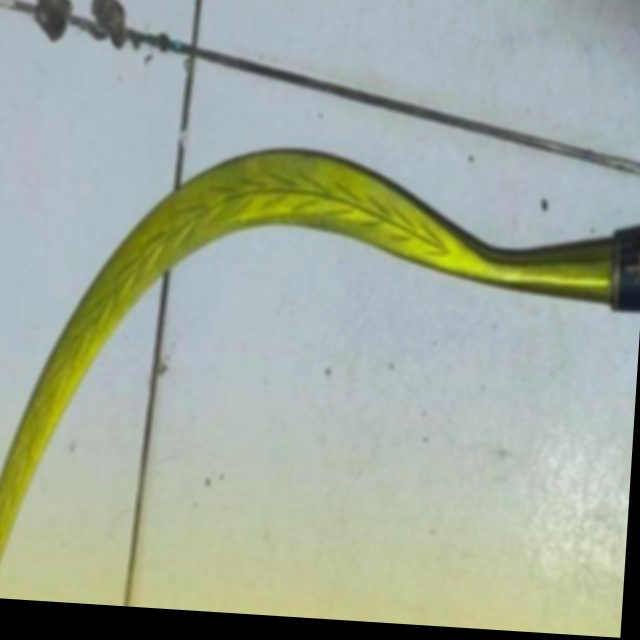Sharp-Object: (0, 126, 640, 638)
